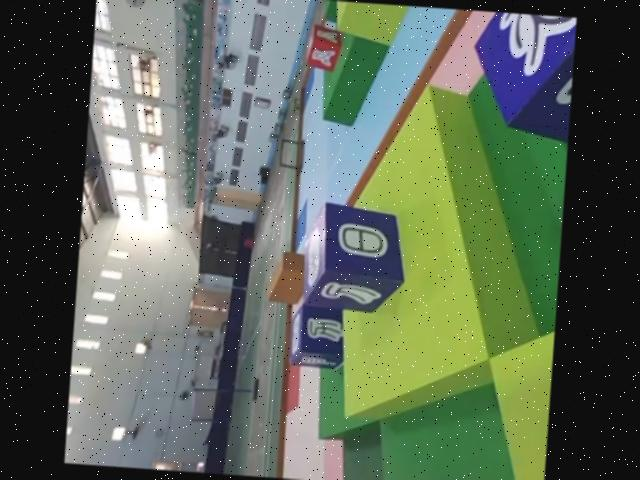R2 Fake Blue: (470, 11, 577, 146), (301, 200, 411, 316), (291, 299, 351, 368)
